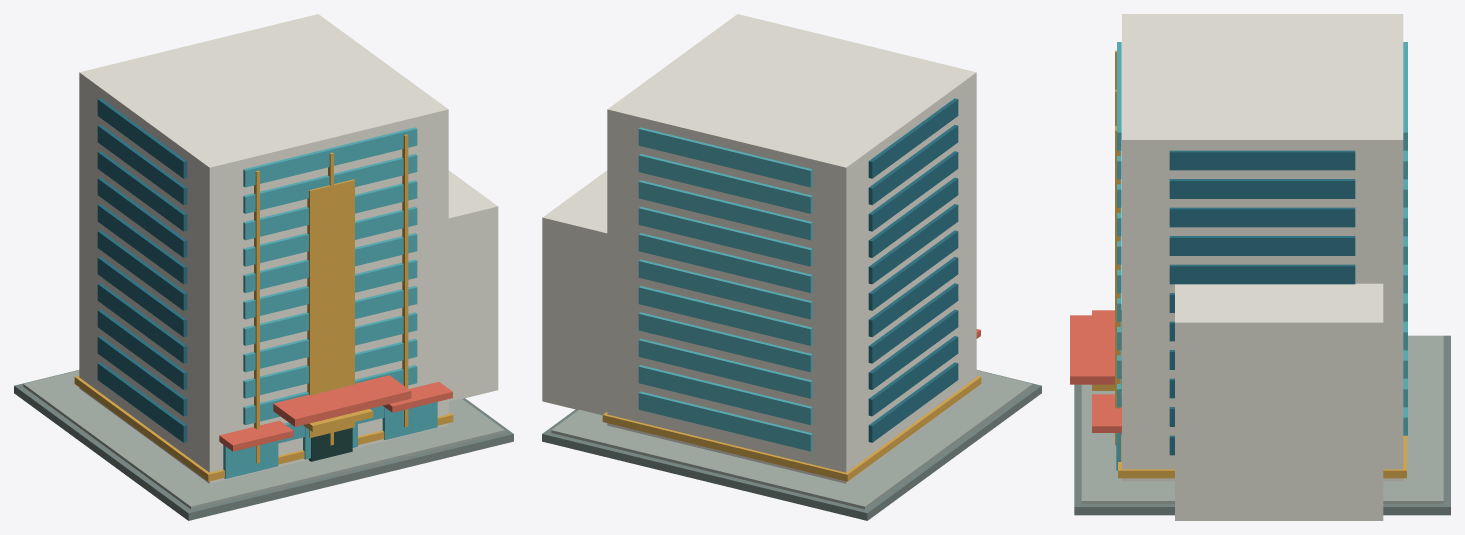
The model's file is hotel_lv2.glb.
The picture shows the model from 3 angles, left to right: view 1: azimuth 30°, elevation 25°; view 2: azimuth 150°, elevation 25°; view 3: azimuth 270°, elevation 25°; orthographic projection. The views are drawn at different scales.
Visible parts, largest first — view 1: ivory, glass, glassDark, gold, concrete, pavement, coral, dark; view 2: ivory, glass, glassDark, concrete, pavement, gold; view 3: ivory, glassDark, concrete, coral, pavement, glass, gold.
Part boxes in pixels (x1,y1,x2,y2): ivory: [79, 14, 498, 483]; glass: [223, 127, 437, 478]; glassDark: [97, 98, 187, 442]; gold: [74, 134, 453, 481]; concrete: [23, 370, 504, 509]; pavement: [14, 370, 513, 520]; coral: [219, 375, 452, 451]; dark: [308, 428, 352, 461]; ivory: [542, 14, 976, 483]; glass: [638, 127, 812, 451]; glassDark: [868, 98, 958, 442]; concrete: [551, 370, 1032, 509]; pavement: [542, 370, 1041, 520]; gold: [602, 376, 981, 481]; ivory: [1122, 14, 1403, 520]; glassDark: [1169, 150, 1355, 455]; concrete: [1081, 335, 1443, 503]; coral: [1070, 310, 1121, 432]; pavement: [1074, 335, 1450, 515]; glass: [1116, 42, 1407, 470]; gold: [1092, 50, 1406, 478].
Size of the model in its own units: 10.73 by 9.4 by 9.2.
